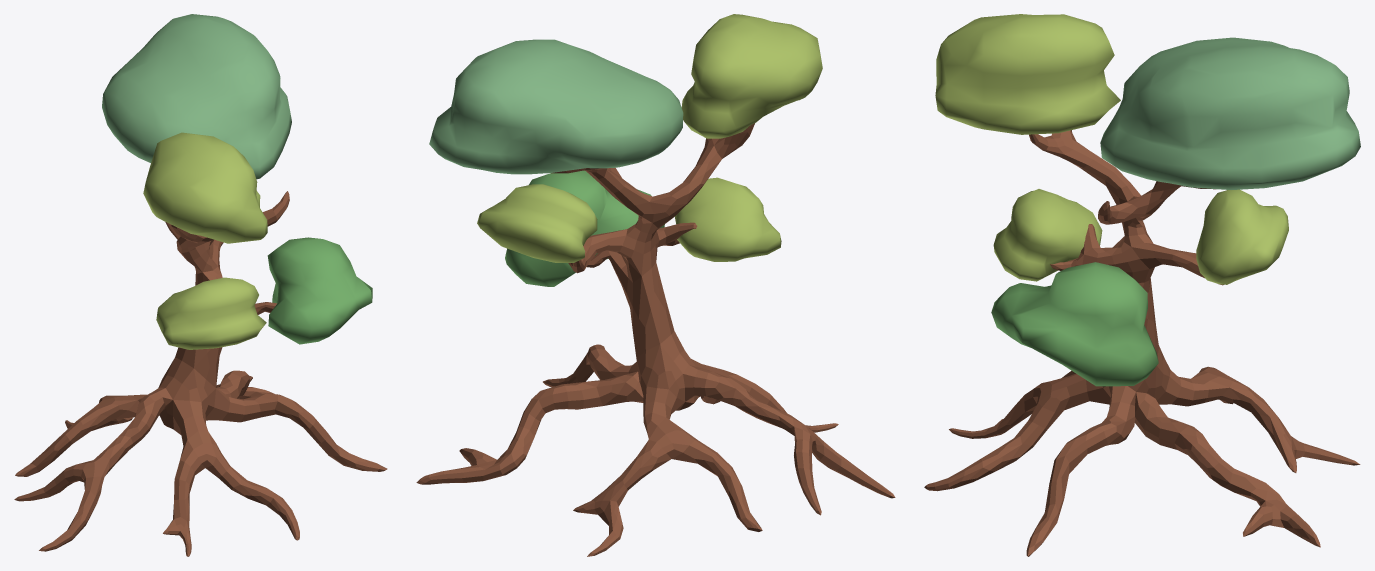
File: GiantTreeStylized.fbx
3 views of the same model, side by side, from view 1: azimuth 30°, elevation 25°; view 2: azimuth 150°, elevation 25°; view 3: azimuth 270°, elevation 25° (orthographic). The views are drawn at different scales.
Parts seen in each view (by area): view 1: Cube.010, Mball.035, Mball.036, Mball.037, Mball.038; view 2: Cube.010, Mball.035, Mball.036, Mball.040, Mball.038, Mball.037; view 3: Mball.035, Cube.010, Mball.036, Mball.037, Mball.040, Mball.038.
Part boxes in pixels (x1=…): Cube.010: x1=14, y1=191, x2=387, y2=556; Mball.035: x1=102, y1=14, x2=291, y2=179; Mball.036: x1=143, y1=132, x2=267, y2=243; Mball.037: x1=267, y1=237, x2=372, y2=344; Mball.038: x1=156, y1=277, x2=266, y2=349; Cube.010: x1=416, y1=123, x2=895, y2=556; Mball.035: x1=429, y1=39, x2=683, y2=174; Mball.036: x1=681, y1=14, x2=822, y2=138; Mball.040: x1=477, y1=184, x2=597, y2=262; Mball.038: x1=674, y1=177, x2=781, y2=261; Mball.037: x1=505, y1=170, x2=664, y2=286; Mball.035: x1=1100, y1=37, x2=1360, y2=189; Cube.010: x1=924, y1=130, x2=1360, y2=556; Mball.036: x1=935, y1=14, x2=1120, y2=134; Mball.037: x1=991, y1=262, x2=1158, y2=386; Mball.040: x1=1196, y1=189, x2=1288, y2=284; Mball.038: x1=993, y1=189, x2=1102, y2=281.
Size of the model in its own units: 1581 by 1813 by 1519.
